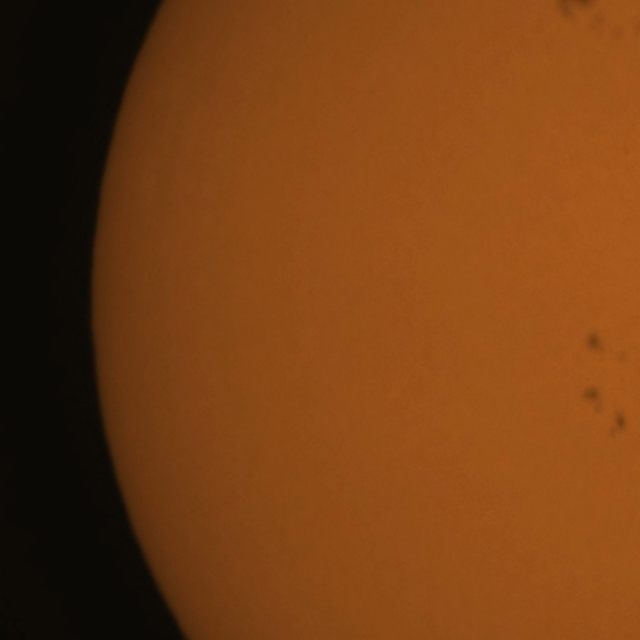sunspot: (553, 0, 639, 54), (580, 384, 601, 411), (608, 413, 628, 440), (584, 331, 604, 354)
